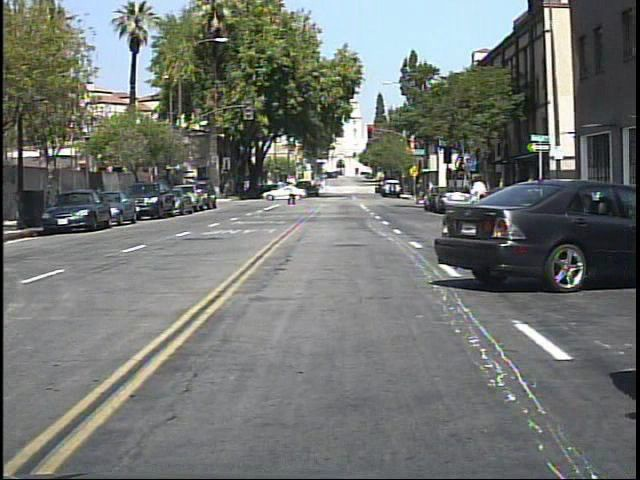person: (463, 165, 495, 245), (525, 169, 544, 219), (286, 177, 303, 210)
